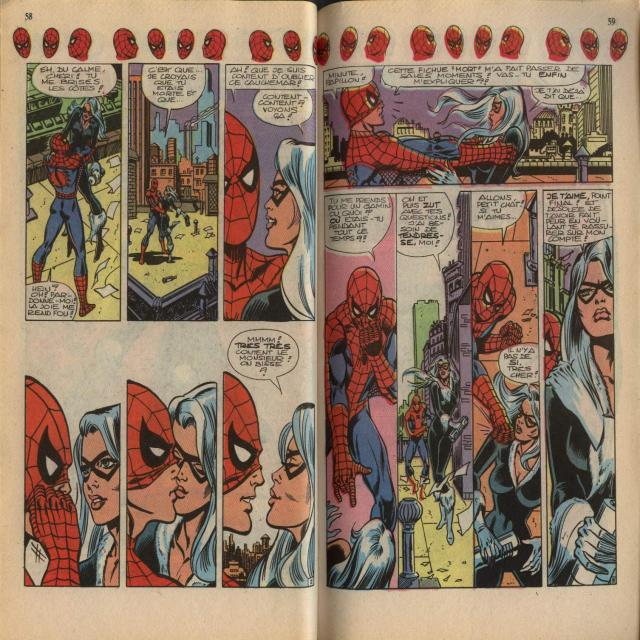comic_panel: (321, 63, 615, 191), (395, 189, 476, 591), (541, 188, 619, 589), (323, 191, 399, 593), (470, 188, 543, 591), (22, 324, 122, 588), (24, 60, 123, 324), (222, 326, 317, 592), (125, 59, 220, 324), (222, 62, 318, 324), (125, 325, 220, 589)
